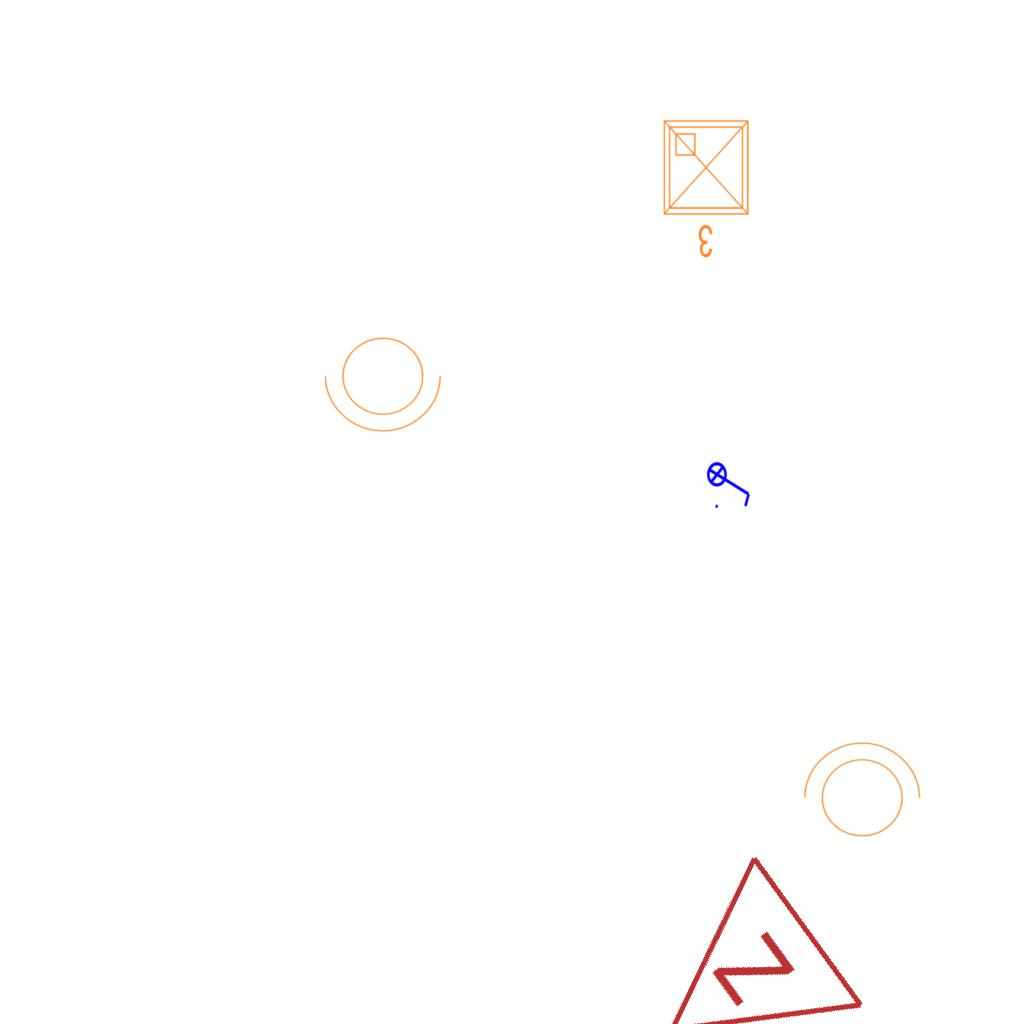Ausschalter_beleuchtet: (706, 455, 754, 511)
Einbaudownlights_LED_Konferenzraeume: (656, 113, 760, 263)
Scheinwerfer_fuer_Alarmbeleuchtung: (793, 737, 925, 849), (320, 325, 452, 437)
Zimmersignalleuchte: (603, 843, 881, 1024)
